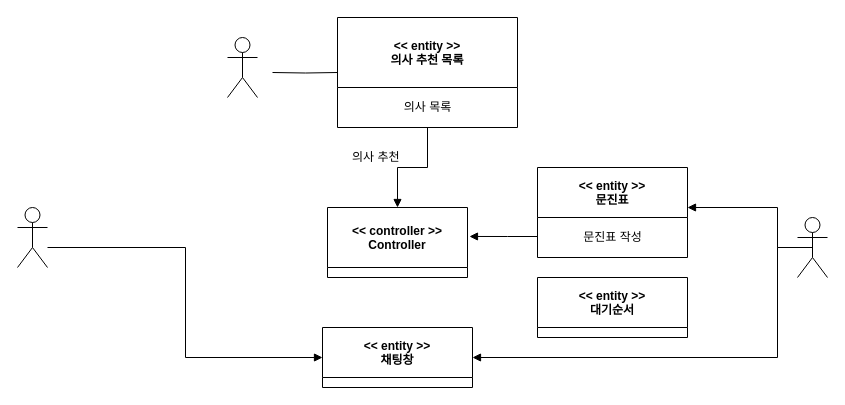
Image size: 845x405. Some labels were removed from this diagram. Each missing label, with the centre of its shape:
의사: the point at 32,237
의사 매칭 시스템: the point at 242,67
환자: the point at 812,247
